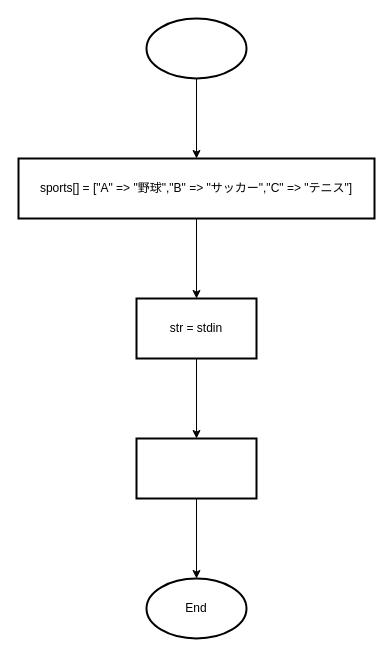
Some shapes in this 392 by 656 pixel diagram are drawn without their labels. The shapes that lost their labels are listed below. From the top down, each one's centre as x and y in pixels, then its label:
the point at 196,48: Start
the point at 196,468: return sports[str]
